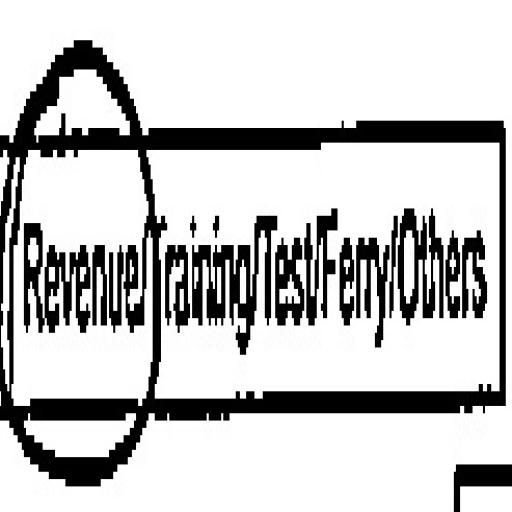check: (11, 40, 152, 512)
